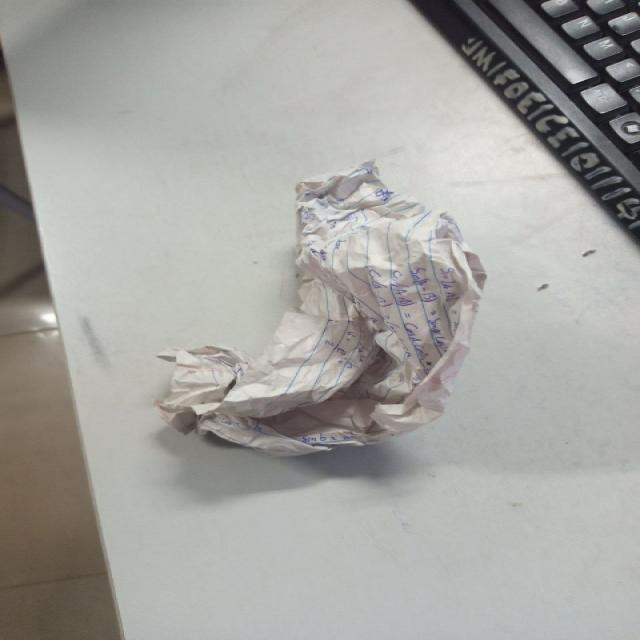Paper: (153, 161, 487, 459)
